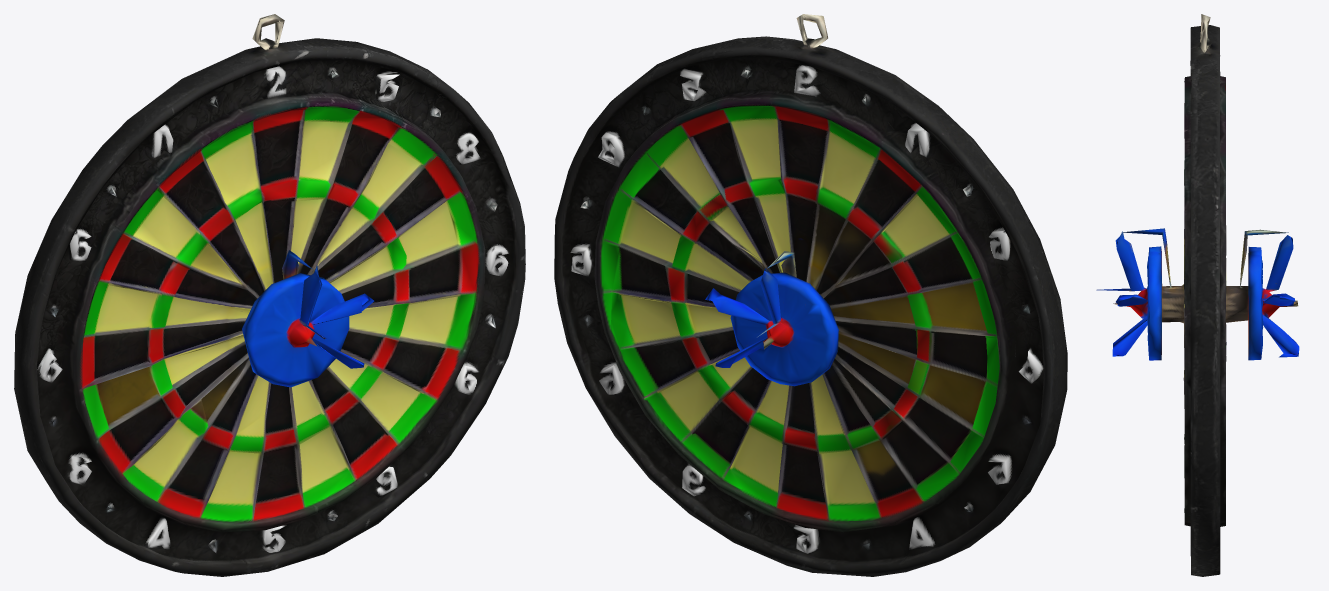
Rendered from dartscheibe.glb.
The picture shows the model from 3 angles, left to right: view 1: azimuth 30°, elevation 25°; view 2: azimuth 150°, elevation 25°; view 3: azimuth 270°, elevation 25°; orthographic projection. The views are drawn at different scales.
Visible parts, largest first — view 1: tripo_node_12095b27-5eba-41d0-838a-884489e46466; view 2: tripo_node_12095b27-5eba-41d0-838a-884489e46466; view 3: tripo_node_12095b27-5eba-41d0-838a-884489e46466.
Part boxes in pixels (x1,y1,x2,y2): tripo_node_12095b27-5eba-41d0-838a-884489e46466: (14, 14, 525, 576); tripo_node_12095b27-5eba-41d0-838a-884489e46466: (554, 14, 1067, 576); tripo_node_12095b27-5eba-41d0-838a-884489e46466: (1096, 14, 1299, 576).
Bounding box in the file's own units: 0.9323 × 0.9745 × 0.3639.
1 material, 1 textured.
